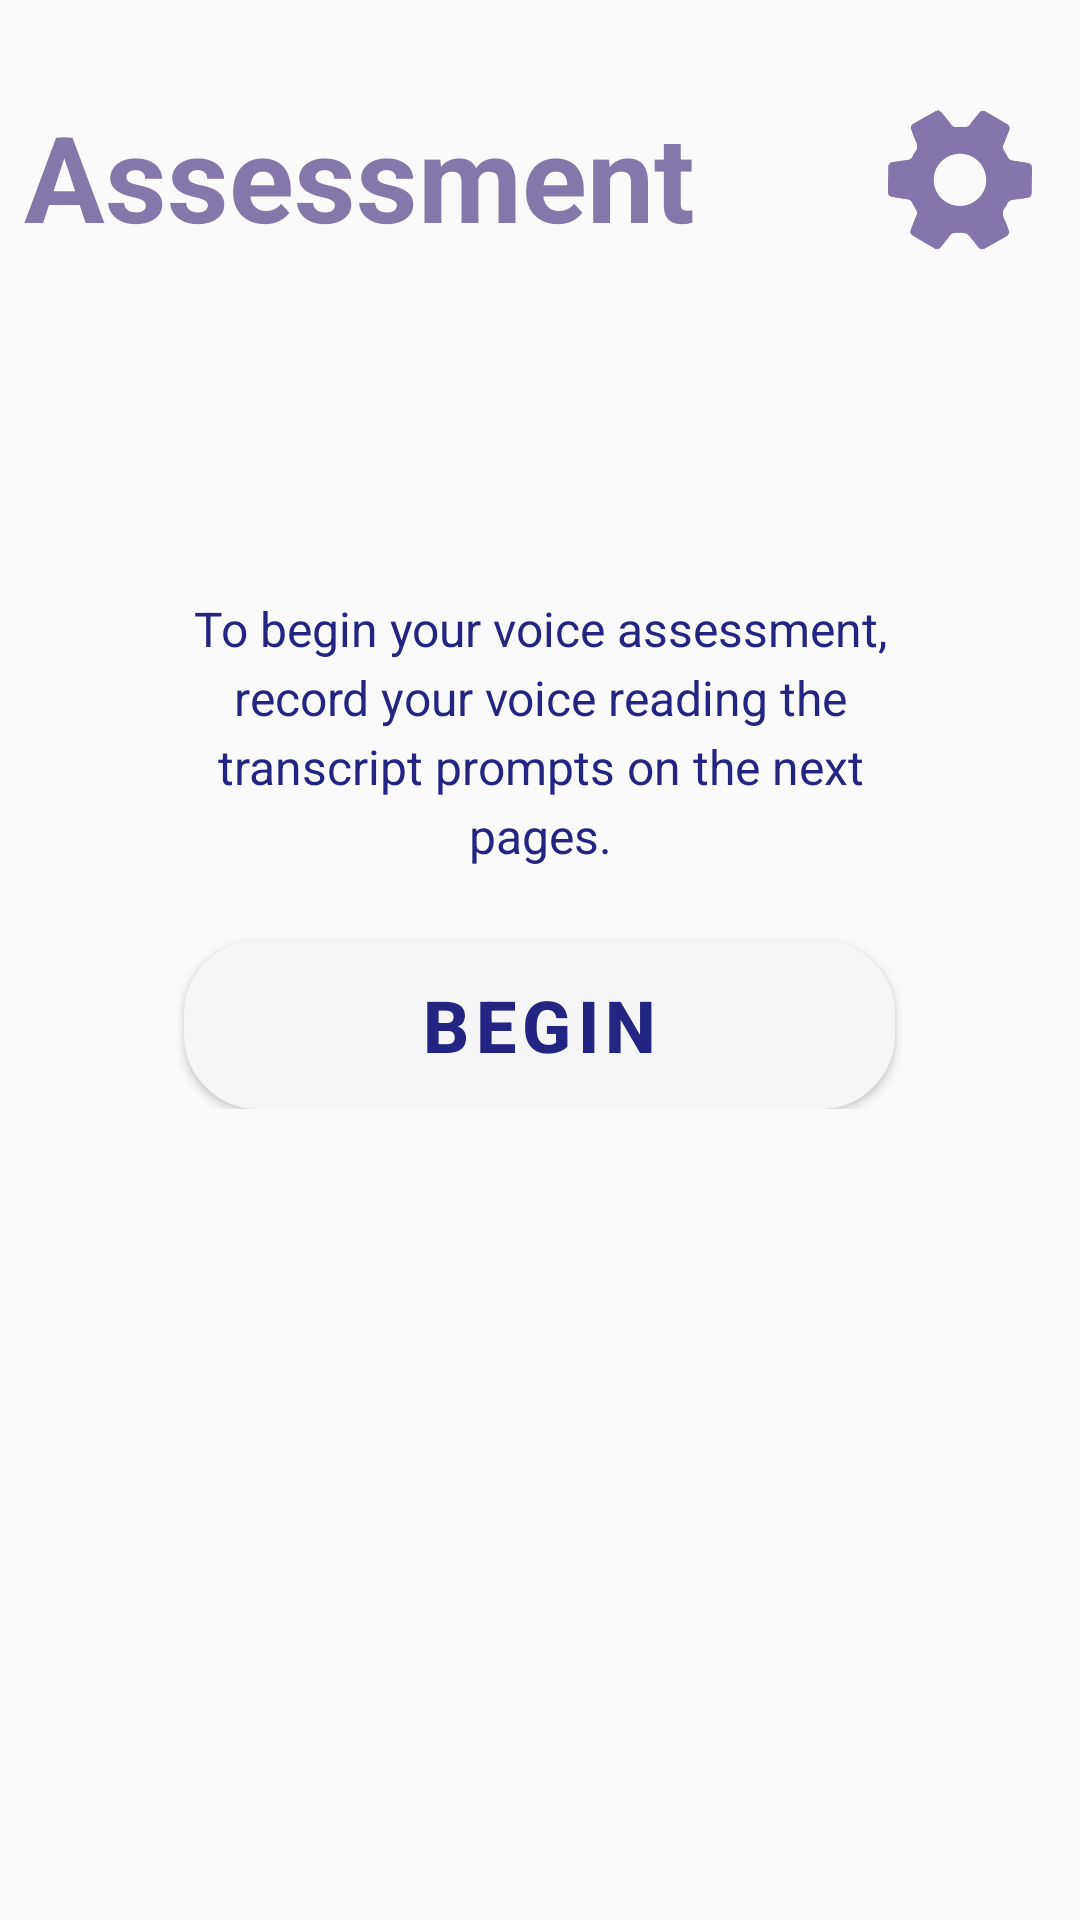

Icon bounding boxes for this 1080x1920 phone screenshot, format [x1=x1, y1=y1, x2=x2, y2=y2]:
Settings: [x1=888, y1=110, x2=1032, y2=250]
